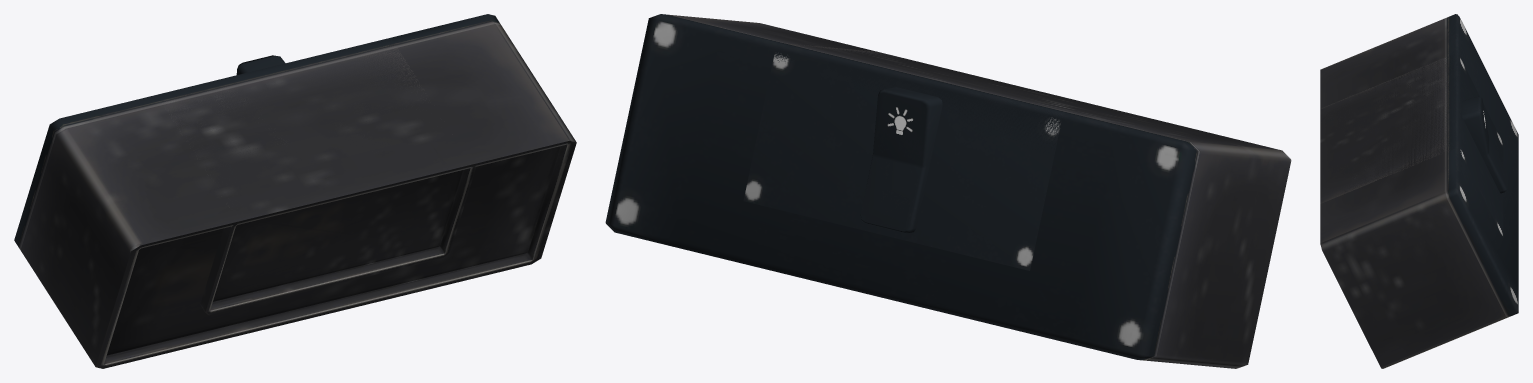
File: Bug.police.dae
3 views of the same model, side by side, from view 1: azimuth 30°, elevation 25°; view 2: azimuth 150°, elevation 25°; view 3: azimuth 270°, elevation 25° (orthographic). The views are drawn at different scales.
Visible parts, largest first — view 1: bug_switchboard2, bug_switchboard, bug_switchboard_siren; view 2: bug_switchboard2, bug_switchboard, bug_switchboard_extlight, bug_switchboard_underglow, bug_switchboard_siren; view 3: bug_switchboard2, bug_switchboard, bug_switchboard_underglow, bug_switchboard_siren, bug_switchboard_extlight.
Part boxes in pixels (bbox=[...]): bug_switchboard2: bbox=[14, 14, 576, 368]; bug_switchboard: bbox=[158, 38, 475, 315]; bug_switchboard_siren: bbox=[237, 55, 285, 74]; bug_switchboard2: bbox=[605, 14, 1291, 368]; bug_switchboard: bbox=[743, 43, 1064, 270]; bug_switchboard_extlight: bbox=[861, 93, 926, 230]; bug_switchboard_underglow: bbox=[860, 91, 942, 233]; bug_switchboard_siren: bbox=[880, 87, 942, 228]; bug_switchboard2: bbox=[1320, 14, 1518, 368]; bug_switchboard: bbox=[1320, 54, 1503, 237]; bug_switchboard_underglow: bbox=[1464, 113, 1507, 193]; bug_switchboard_siren: bbox=[1462, 96, 1491, 172]; bug_switchboard_extlight: bbox=[1482, 98, 1507, 188].
Bounding box in the file's own units: 0.1528 × 0.0711 × 0.0716.
